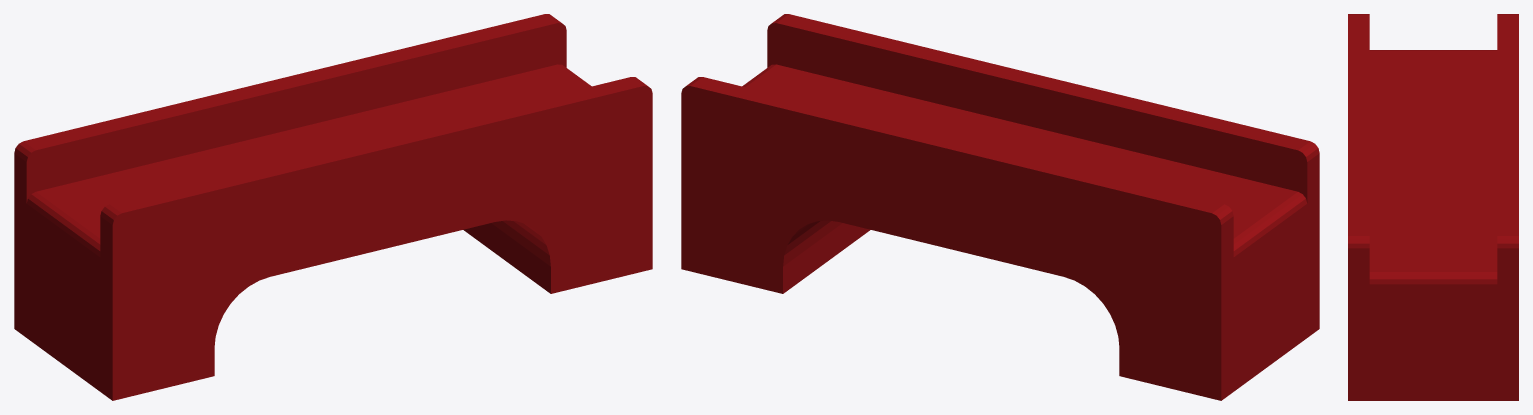
File: PuenteWachin.fbx
The picture shows the model from 3 angles, left to right: view 1: azimuth 30°, elevation 25°; view 2: azimuth 150°, elevation 25°; view 3: azimuth 270°, elevation 25°; orthographic projection. The views are drawn at different scales.
Visible parts, largest first — view 1: Cube.033; view 2: Cube.033; view 3: Cube.033.
Part boxes in pixels (x1,y1,x2,y2): Cube.033: (14,14,652,400); Cube.033: (681,14,1319,400); Cube.033: (1348,14,1518,400).
Size of the model in its own units: 848 by 278 by 268.
